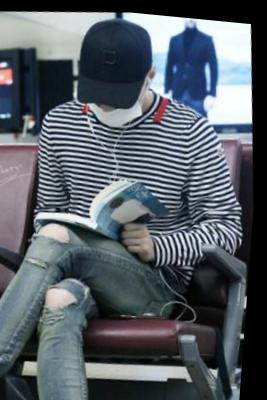WRONG: (88, 81, 149, 131)
